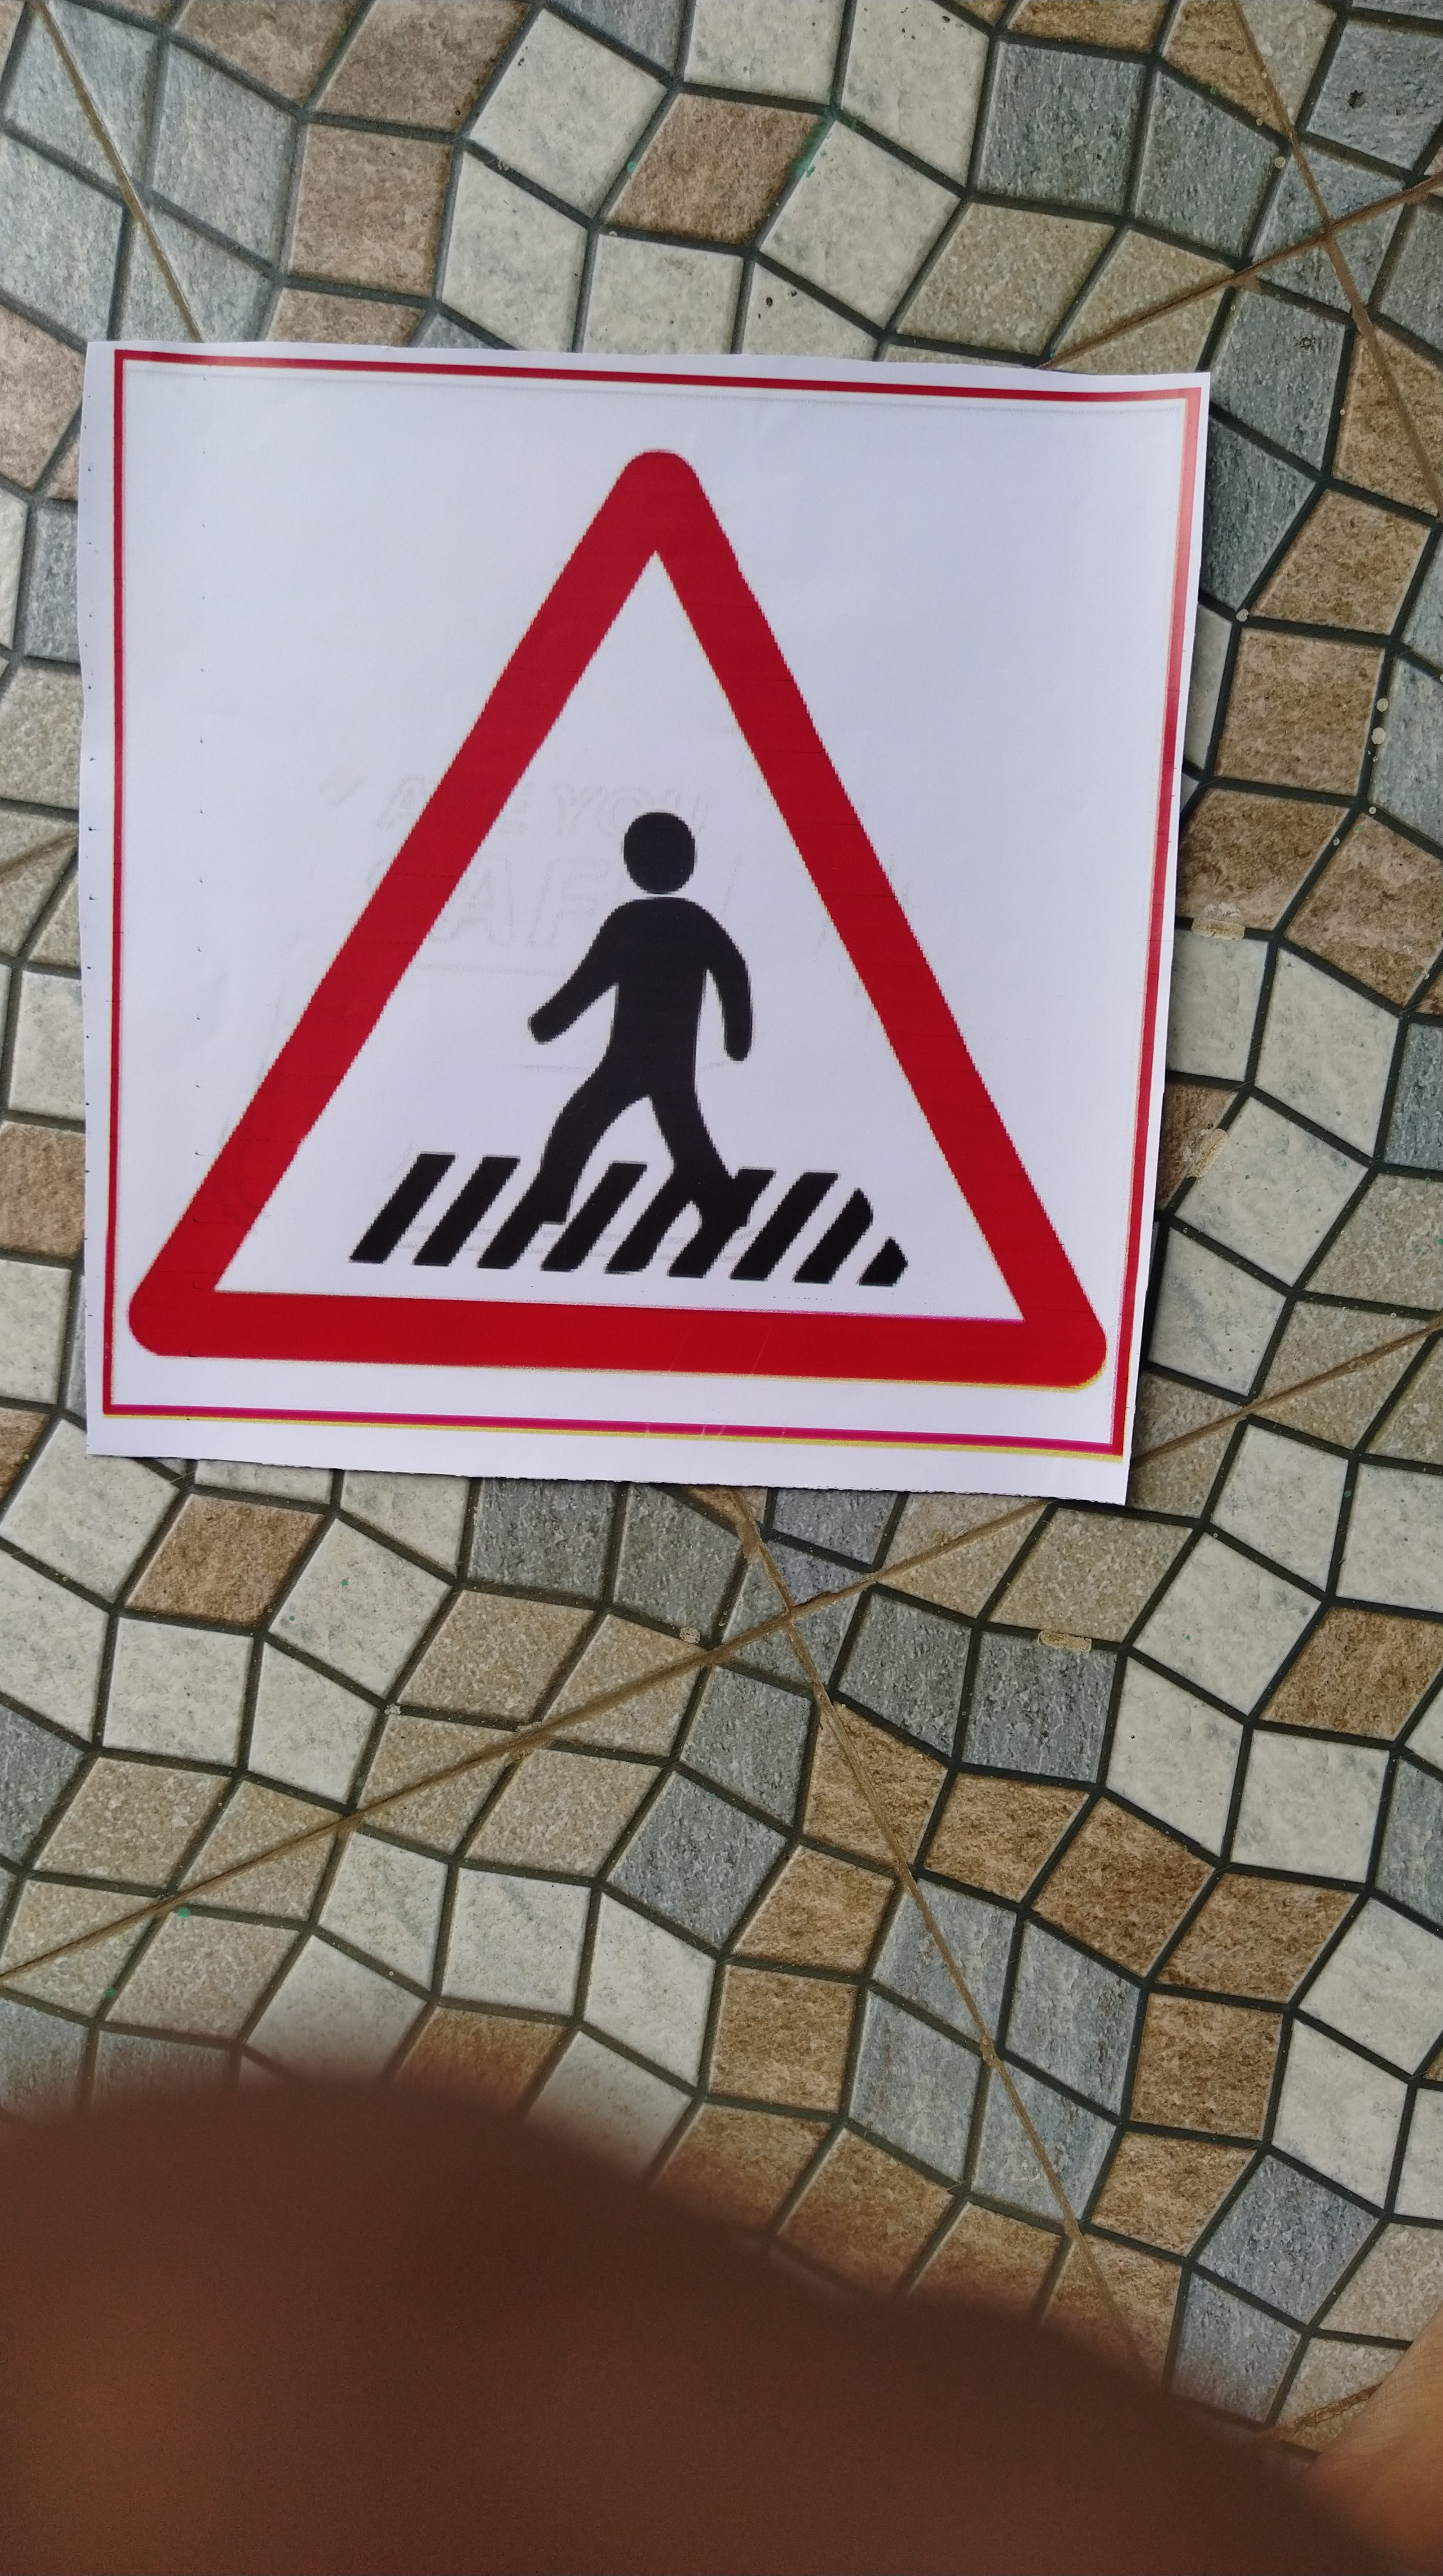pedestrain crossing: (122, 373, 1096, 1518), (129, 391, 1121, 1430), (122, 407, 1112, 1405)
